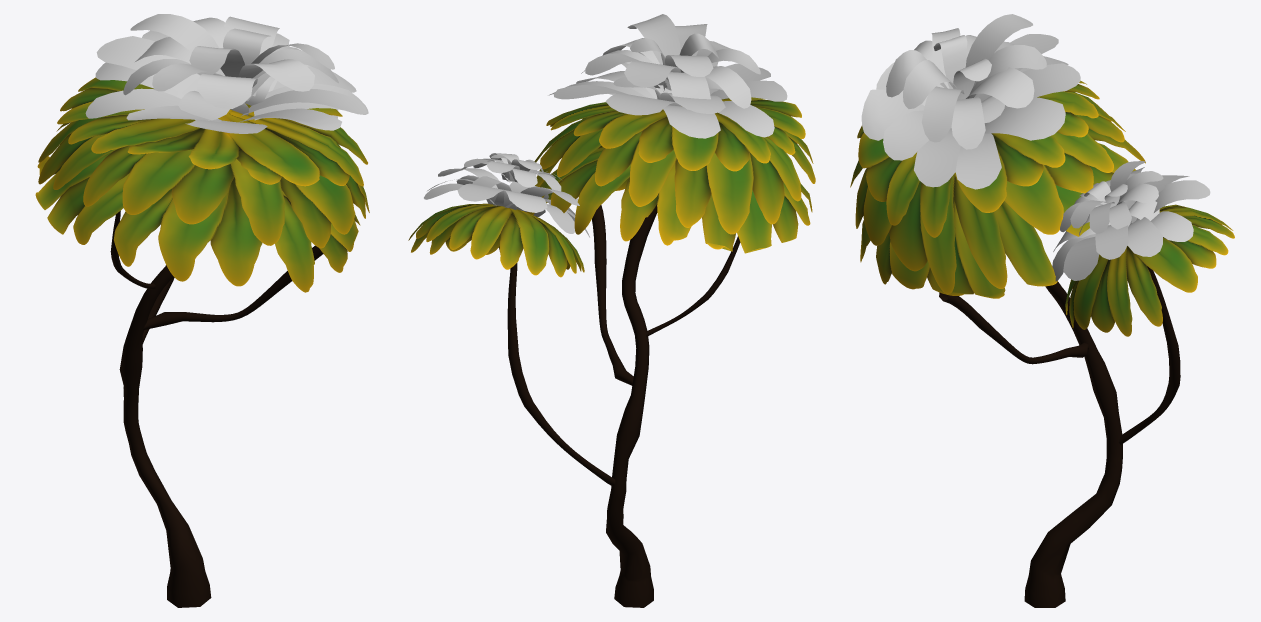
The model's file is Small_Bold_Tree01.fbx.
3 views of the same model, side by side, from view 1: azimuth 30°, elevation 25°; view 2: azimuth 150°, elevation 25°; view 3: azimuth 270°, elevation 25° (orthographic). The views are drawn at different scales.
Parts seen in each view (by area): view 1: Sphere.004; view 2: Sphere.004; view 3: Sphere.004.
Boxes of the visible parts, x1,y1,x2,y2 form: Sphere.004: (35, 14, 369, 607); Sphere.004: (408, 14, 815, 607); Sphere.004: (850, 14, 1234, 607).
Bounding box in the file's own units: 422 × 683 × 441.
